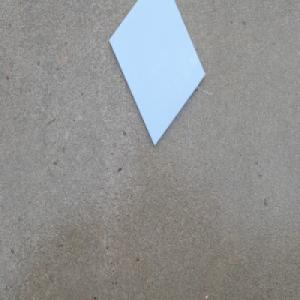PaintChip: (108, 0, 207, 147)
